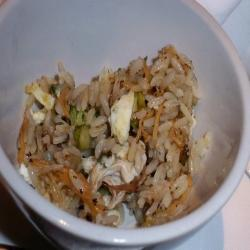rice: (18, 62, 207, 227)
